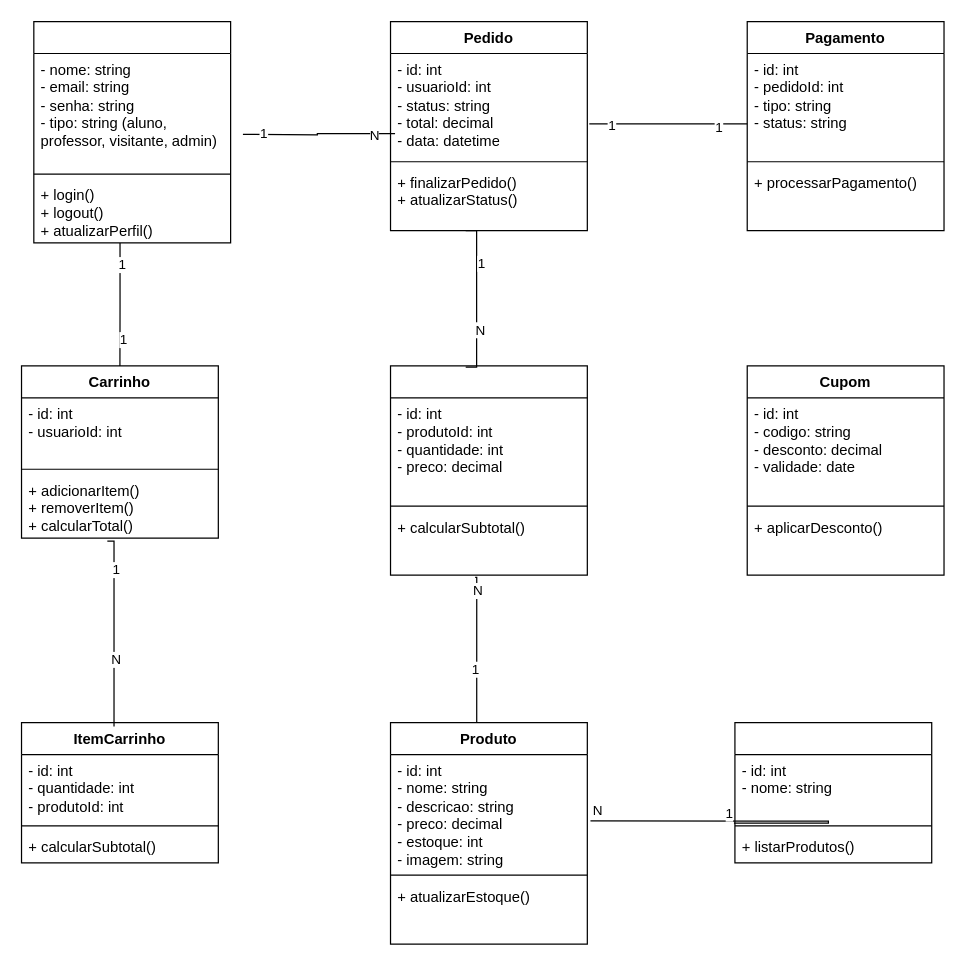
The diagram is 966 pixels wide and 969 high, and some of its shapes have lost their labels. Here are the shapes that lost their labels. From the top down, the box of each, then its label:
(33, 20, 231, 243): Usuario
(389, 365, 587, 575): ItemPedido
(734, 721, 932, 863): Categoria
